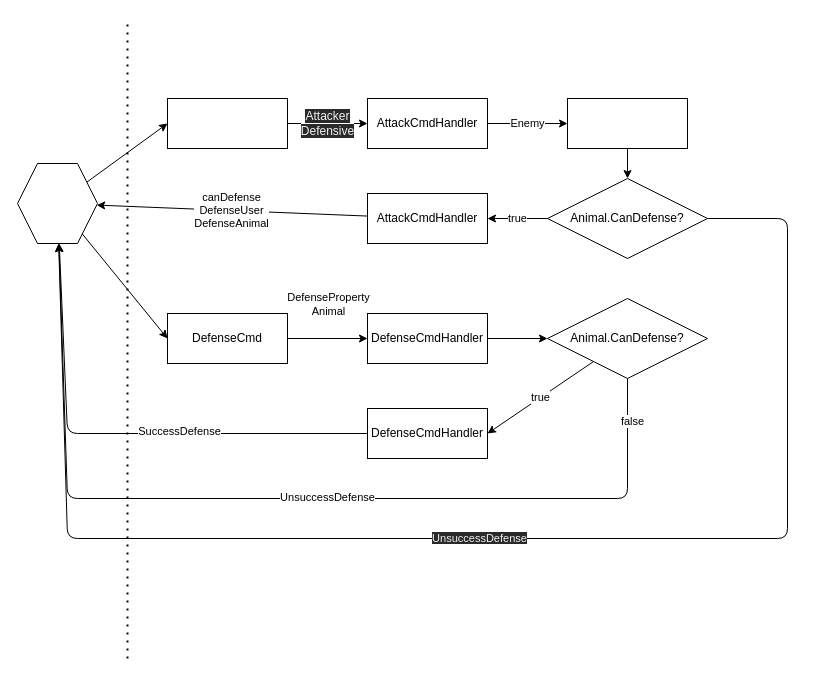
Some shapes in this 813 by 677 pixel diagram are drawn without their labels. The box of each missing label's shape, as (x1, y1, x2, y2) in pixels:
Animal.Attack: (566, 98, 688, 148)
AttackCmd: (166, 98, 288, 148)
Client: (16, 162, 98, 244)
